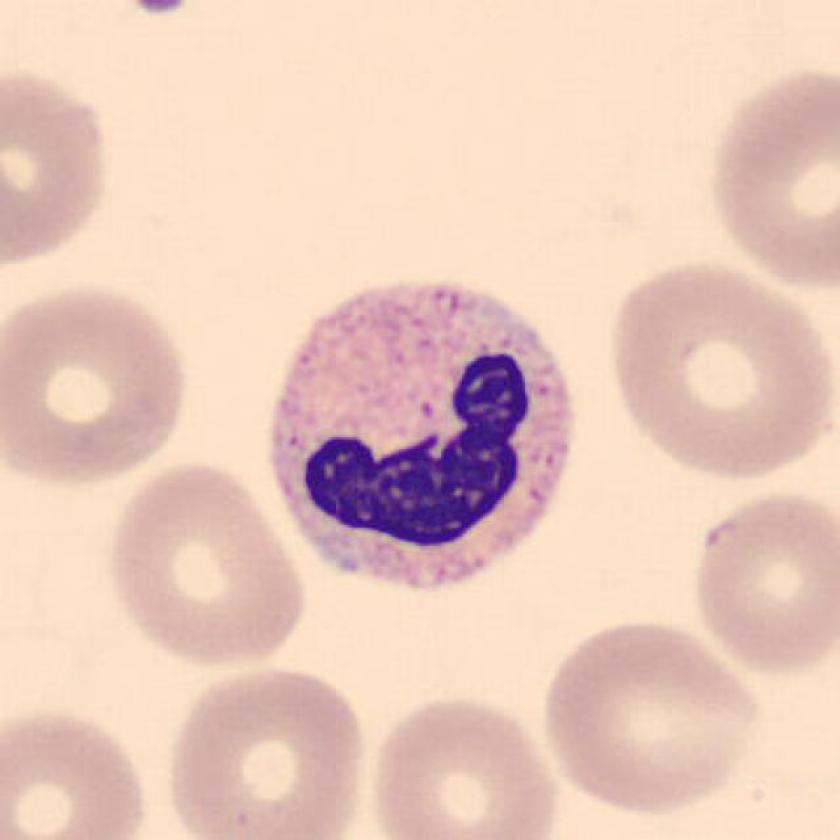neutrophil: (273, 280, 571, 595)
